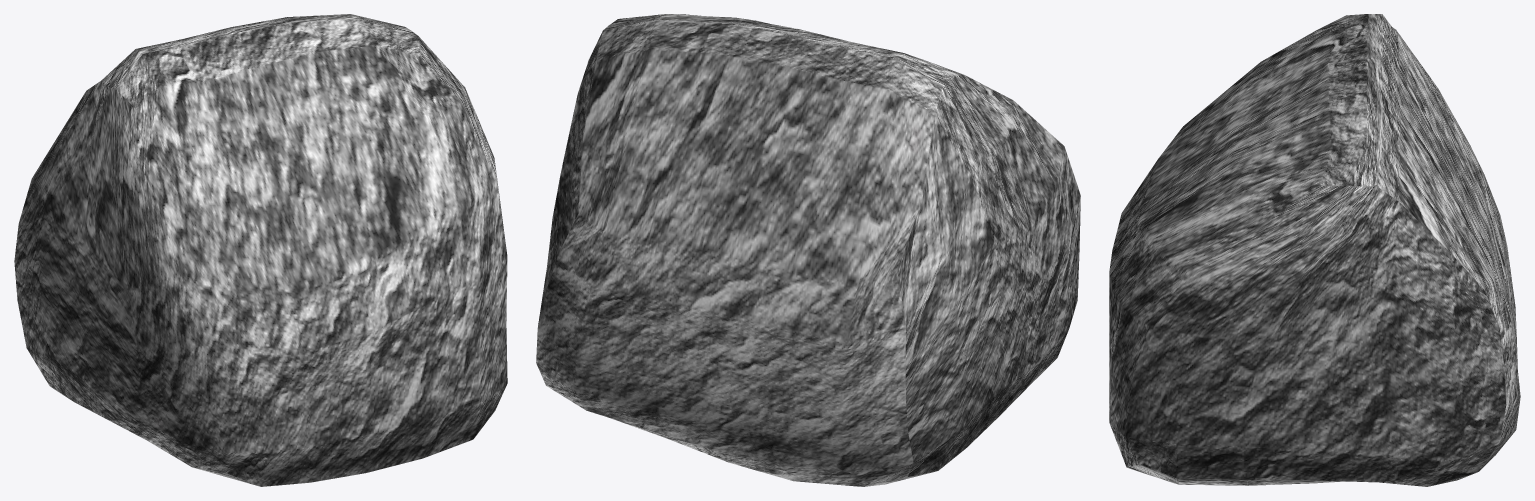
The model's file is Rock1.fbx.
The picture shows the model from 3 angles, left to right: view 1: azimuth 30°, elevation 25°; view 2: azimuth 150°, elevation 25°; view 3: azimuth 270°, elevation 25°; orthographic projection. The views are drawn at different scales.
Visible parts, largest first — view 1: pCube2; view 2: pCube2; view 3: pCube2.
Boxes of the visible parts, <box> form: pCube2: <box>14,14,507,486</box>; pCube2: <box>536,14,1080,486</box>; pCube2: <box>1109,14,1520,486</box>.
Bounding box in the file's own units: 1.44 × 1.33 × 1.32.
Materials: 1 (1 with a texture image).
